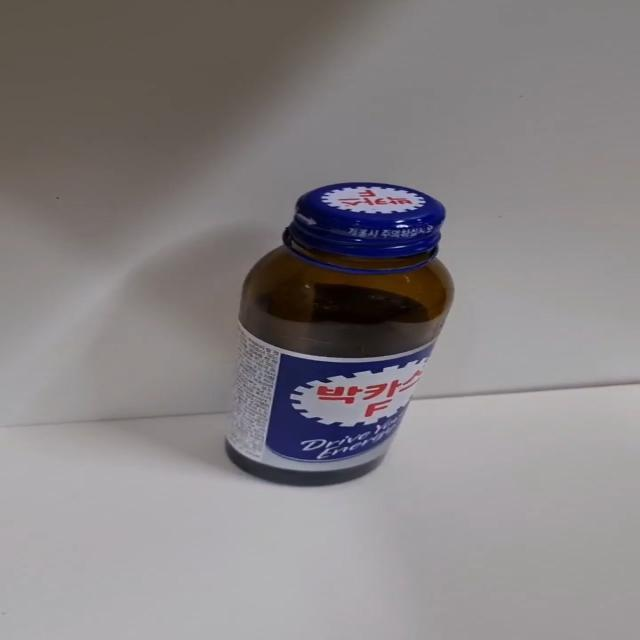Glass: (223, 182, 455, 489)
